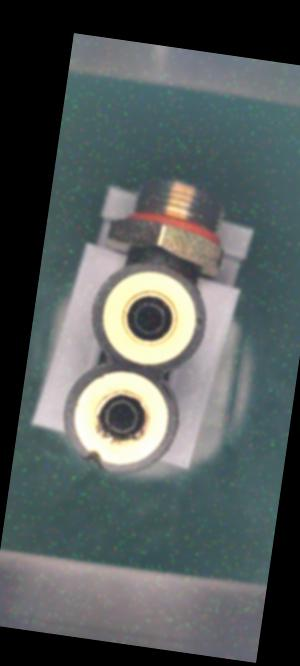bump: (76, 439, 113, 476)
craze: (160, 254, 171, 268)
